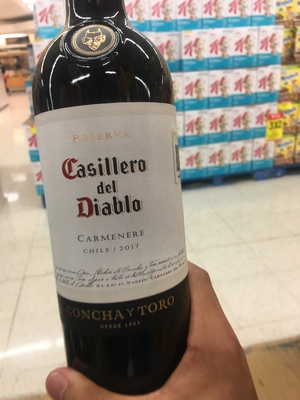casillero del diablo carmenere: (36, 7, 193, 400)
